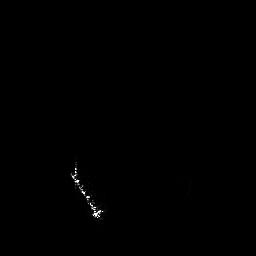ship: (67, 158, 107, 224)
